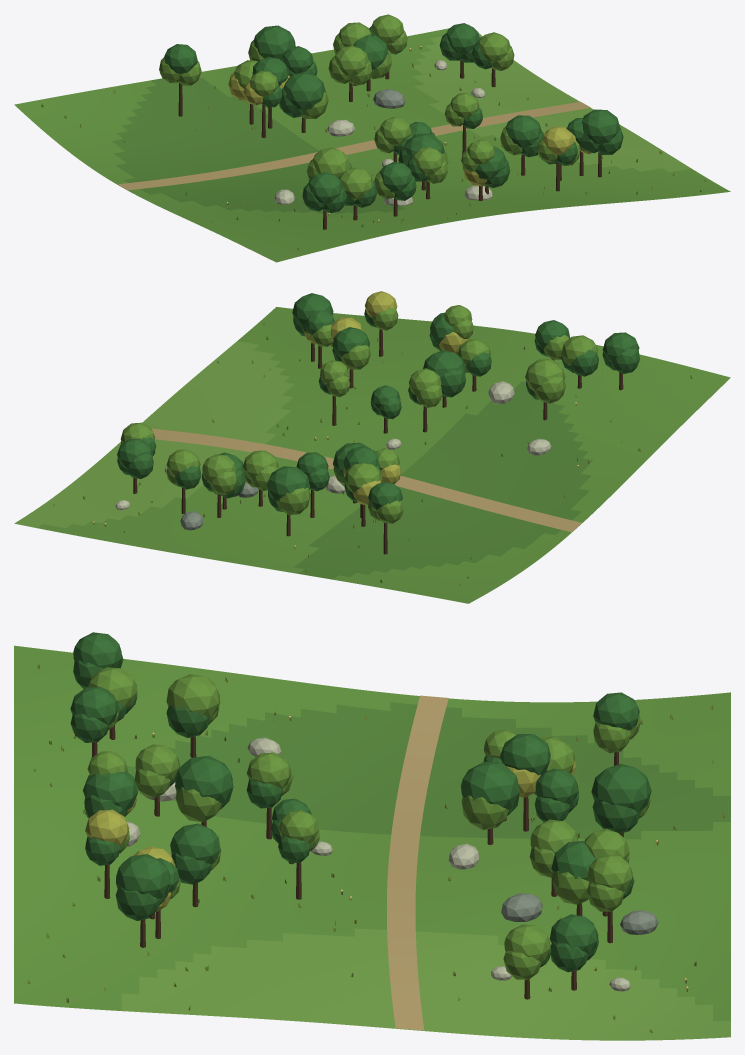
The model's file is Chunk_X-2_Y0_Z-1.fbx.
3 renders of one model, top to bottom at view 1: azimuth 30°, elevation 25°; view 2: azimuth 150°, elevation 25°; view 3: azimuth 270°, elevation 25°, orthographic. The views are drawn at different scales.
Visible parts, largest first — view 1: Terrain.009, Canopies.009, Path.001, Rocks.009, Trunks.009, GroundCover.009; view 2: Terrain.009, Canopies.009, Path.001, Trunks.009, Rocks.009, GroundCover.009; view 3: Terrain.009, Canopies.009, Path.001, Rocks.009, Trunks.009, GroundCover.009.
Part boxes in pixels (x1,y1,x2,y2): Terrain.009: (14,24,730,262); Canopies.009: (159,14,623,213); Path.001: (118,101,590,190); Rocks.009: (274,60,492,205); Trunks.009: (178,60,601,229); GroundCover.009: (41,45,705,250); Terrain.009: (14,307,730,603); Canopies.009: (117,291,639,523); Path.001: (152,428,581,532); Trunks.009: (133,329,623,554); Rocks.009: (115,381,551,530); GroundCover.009: (52,321,692,595); Terrain.009: (14,645,730,1040); Canopies.009: (70,632,651,979); Path.001: (387,695,448,1030); Rocks.009: (127,737,658,991); Trunks.009: (91,725,623,999); GroundCover.009: (27,664,724,1032).
Bounding box in the file's own units: 100 × 24 × 100.
